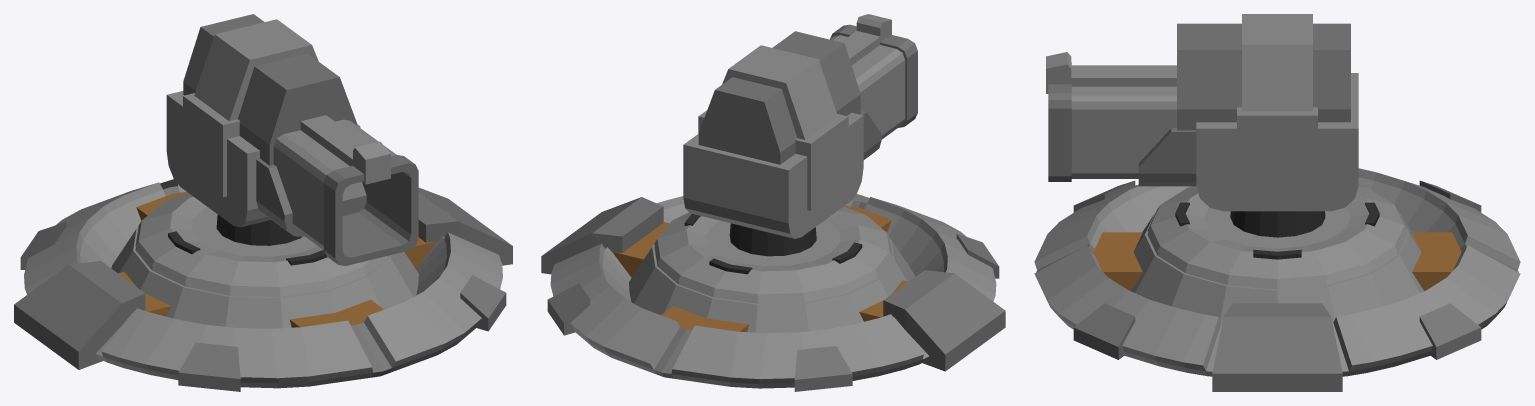
Rendered from mNJ6poH7Cp.glb.
The picture shows the model from 3 angles, left to right: view 1: azimuth 30°, elevation 25°; view 2: azimuth 150°, elevation 25°; view 3: azimuth 270°, elevation 25°; orthographic projection. The views are drawn at different scales.
Parts seen in each view (by area): view 1: Turret_Cannon_Base; view 2: Turret_Cannon_Base; view 3: Turret_Cannon_Base.
Boxes of the visible parts, box(x1,y1,x2,y2) form: Turret_Cannon_Base: box(14, 14, 512, 391); Turret_Cannon_Base: box(541, 14, 1005, 391); Turret_Cannon_Base: box(1034, 14, 1520, 391).
Bounding box in the file's own units: 1.16 × 0.6471 × 1.11.
